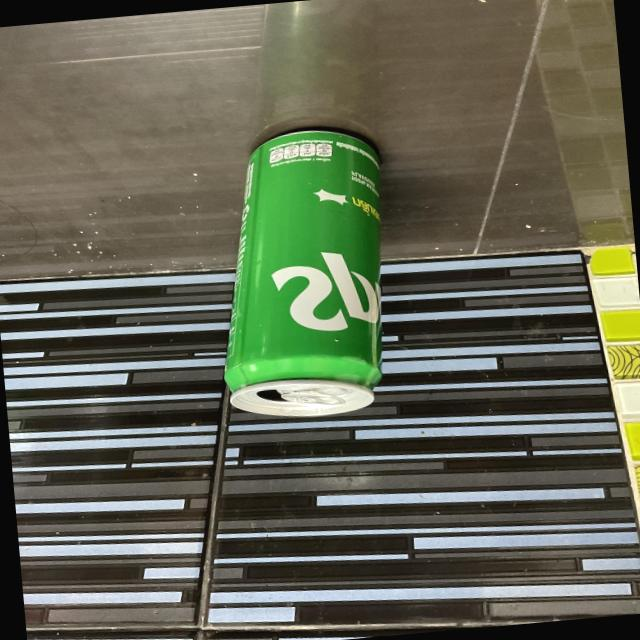can: (204, 117, 407, 426)
